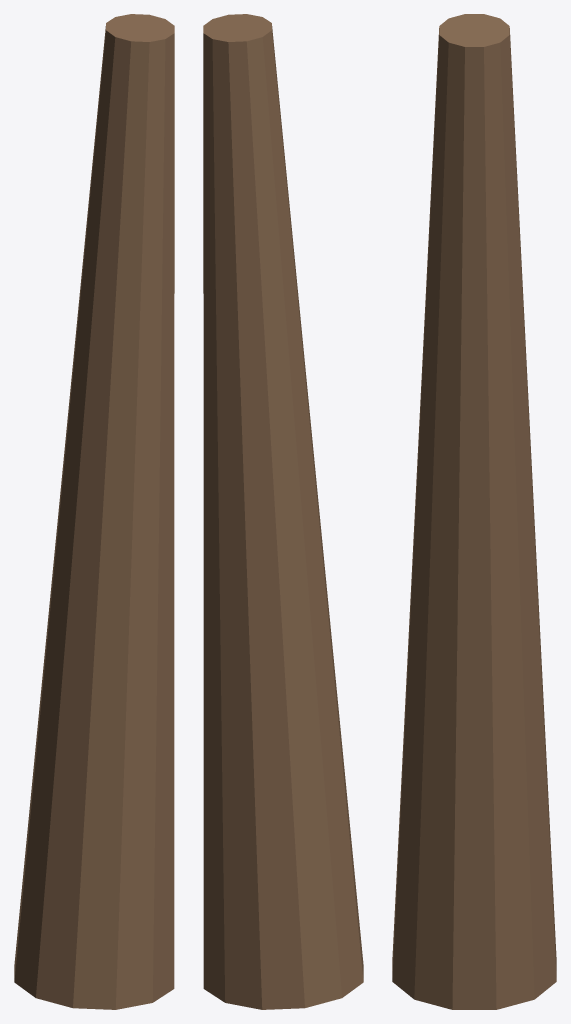
File: Nature_SailTree_Trunk.glb
3 renders of one model, left to right at view 1: azimuth 30°, elevation 25°; view 2: azimuth 150°, elevation 25°; view 3: azimuth 270°, elevation 25°, orthographic. The views are drawn at different scales.
Parts seen in each view (by area): view 1: Nature_SailTree_Trunk; view 2: Nature_SailTree_Trunk; view 3: Nature_SailTree_Trunk.
Part boxes in pixels (x1,y1,x2,y2): Nature_SailTree_Trunk: (14, 14, 174, 1009); Nature_SailTree_Trunk: (203, 14, 363, 1009); Nature_SailTree_Trunk: (392, 14, 556, 1009).
Bounding box in the file's own units: 0.5659 × 3.52 × 0.5409.
